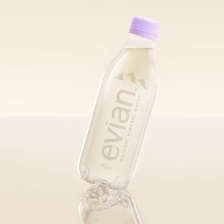bottle: (74, 12, 167, 189), (68, 182, 153, 224)
